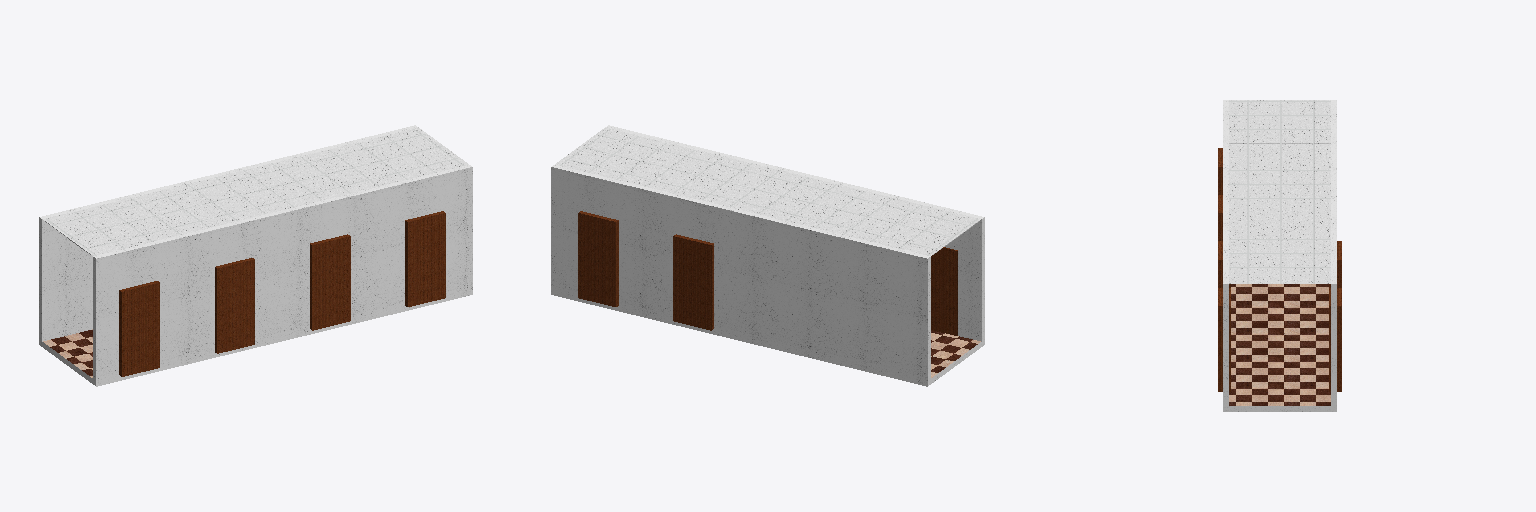
3 renders of one model, left to right at view 1: azimuth 30°, elevation 25°; view 2: azimuth 150°, elevation 25°; view 3: azimuth 270°, elevation 25°, orthographic.
Parts seen in each view (by area): view 1: hallway.022, roof_hallway.027, door_elevator.107; view 2: hallway.022, roof_hallway.027, door_elevator.108, door_elevator.107; view 3: roof_hallway.027, hallway.022, door_elevator.107, door_elevator.108.
Boxes of the visible parts, x1,y1,x2,y2 form: hallway.022: [39, 125, 472, 386]; roof_hallway.027: [43, 128, 468, 255]; door_elevator.107: [119, 211, 445, 376]; hallway.022: [551, 125, 984, 386]; roof_hallway.027: [555, 128, 980, 255]; door_elevator.108: [578, 211, 713, 330]; door_elevator.107: [931, 247, 957, 335]; roof_hallway.027: [1229, 100, 1330, 283]; hallway.022: [1223, 100, 1336, 411]; door_elevator.107: [1218, 148, 1230, 391]; door_elevator.108: [1329, 241, 1341, 391].
Bounding box in the file's own units: 3.43 × 1.11 × 0.9786.
5 materials, 4 textured.